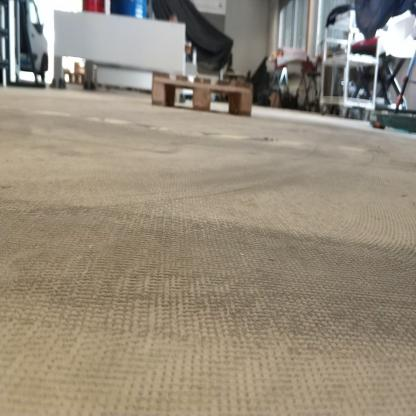BoxFace: (149, 65, 256, 122)
